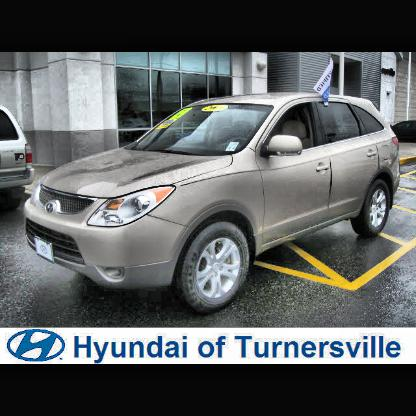Hyundai Veracruz SUV 2012: (25, 94, 400, 311)
